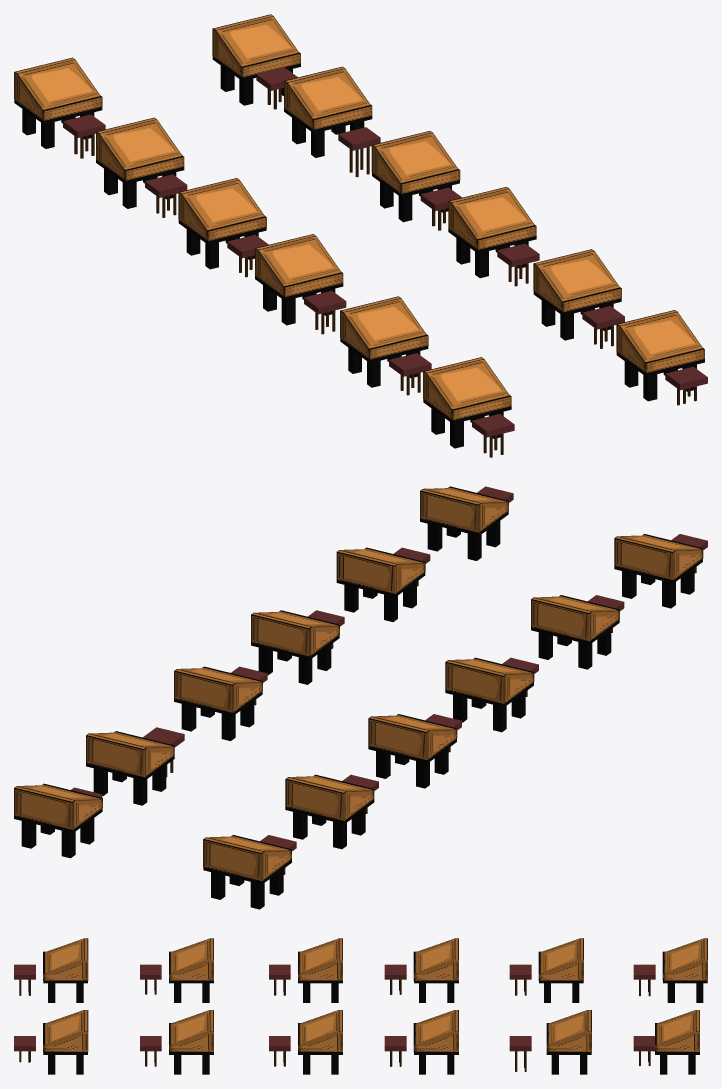
Rendered from sillas2donivel.fbx.
3 views of the same model, one above another, from view 1: azimuth 30°, elevation 25°; view 2: azimuth 150°, elevation 25°; view 3: azimuth 270°, elevation 25° (orthographic). The views are drawn at different scales.
Visible parts, largest first — view 1: polySurface309, polySurface330, polySurface328, polySurface290, polySurface249, polySurface311, polySurface287, polySurface240, polySurface326, polySurface289, polySurface332, polySurface306 (+20 smaller); view 2: polySurface249, polySurface332, polySurface330, polySurface240, polySurface306, polySurface328, polySurface290, polySurface326, polySurface309, polySurface287, polySurface289, polySurface311 (+12 smaller); view 3: polySurface240, polySurface332, polySurface326, polySurface330, polySurface328, polySurface289, polySurface309, polySurface306, polySurface311, polySurface249, polySurface287, polySurface290 (+24 smaller).
Boxes of the visible parts, x1,y1,x2,y2 form: polySurface309: (371, 131, 460, 193); polySurface330: (178, 178, 266, 241); polySurface328: (616, 310, 704, 373); polySurface290: (212, 14, 300, 77); polySurface249: (533, 249, 621, 312); polySurface311: (340, 296, 428, 359); polySurface287: (448, 187, 536, 249); polySurface240: (423, 357, 511, 420); polySurface326: (14, 57, 102, 120); polySurface289: (284, 66, 372, 129); polySurface332: (96, 117, 184, 180); polySurface306: (255, 234, 343, 297); polySurface249: (336, 547, 425, 593); polySurface332: (285, 774, 374, 820); polySurface330: (368, 714, 457, 759); polySurface240: (614, 534, 703, 579); polySurface306: (445, 657, 534, 703); polySurface328: (420, 486, 508, 532); polySurface290: (14, 783, 102, 829); polySurface326: (203, 835, 291, 880); polySurface309: (174, 666, 262, 712); polySurface287: (251, 610, 339, 656); polySurface289: (86, 731, 174, 777); polySurface311: (531, 595, 619, 641); polySurface240: (43, 938, 88, 980); polySurface332: (538, 938, 583, 980); polySurface326: (662, 938, 707, 980); polySurface330: (413, 938, 458, 980); polySurface328: (43, 1010, 88, 1051); polySurface289: (546, 1010, 591, 1051); polySurface309: (413, 1010, 458, 1051); polySurface306: (298, 938, 342, 980); polySurface311: (169, 938, 213, 980); polySurface249: (169, 1010, 213, 1051); polySurface287: (298, 1010, 342, 1051); polySurface290: (655, 1010, 699, 1051).
Size of the model in its own units: 5.34 by 1.31 by 16.81.
